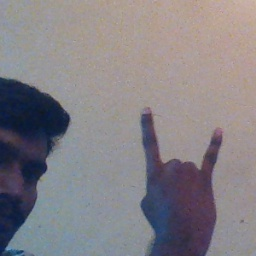V: (132, 104, 230, 241)
